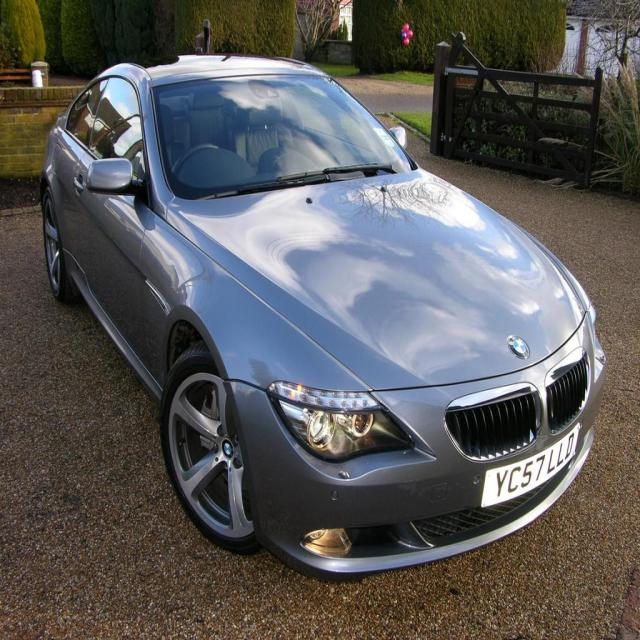car: (31, 49, 606, 587)
